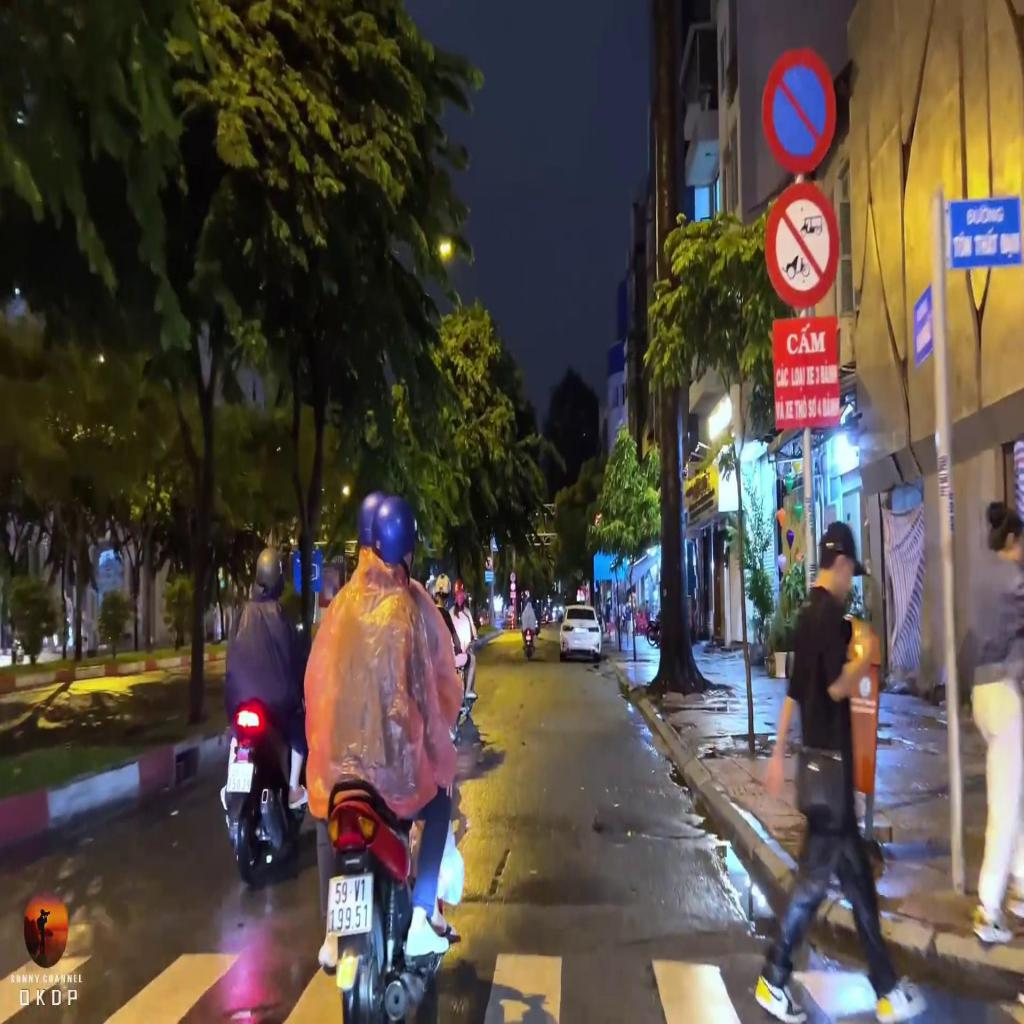cam_cac_loai_xe_3_banh: (763, 181, 840, 304)
cam_do_xe: (760, 46, 836, 170)
